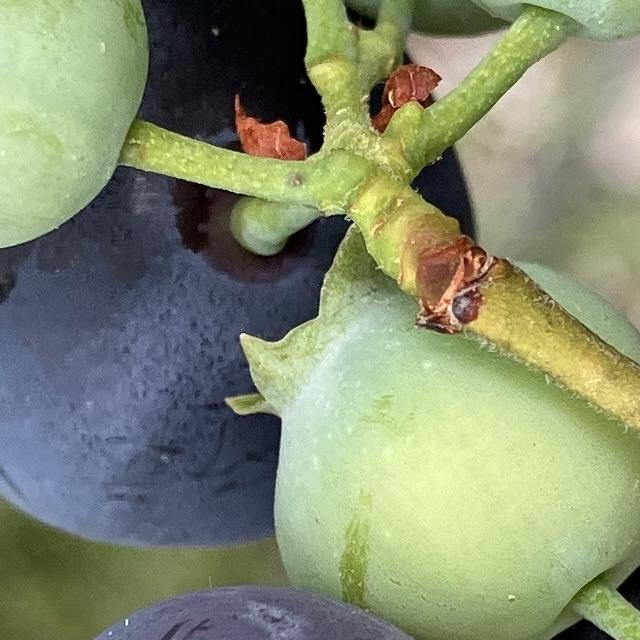Blueberries: (0, 0, 174, 265)
